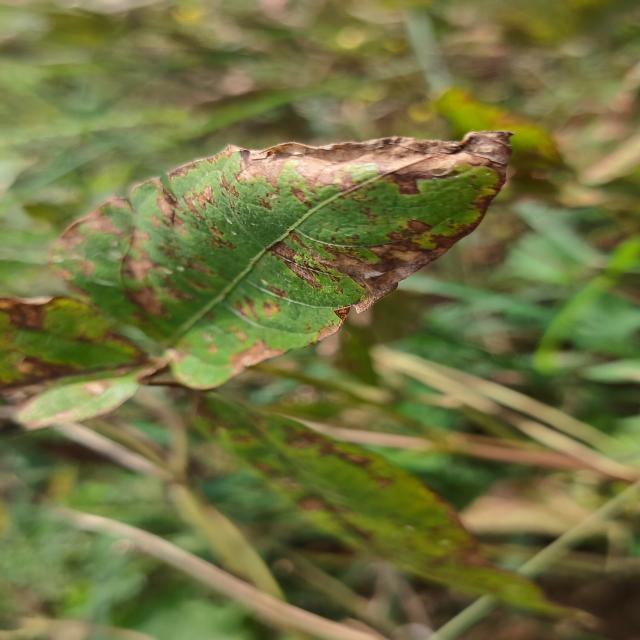Black gram_leaf spot: (0, 130, 511, 428), (193, 393, 575, 617), (351, 486, 354, 490)
